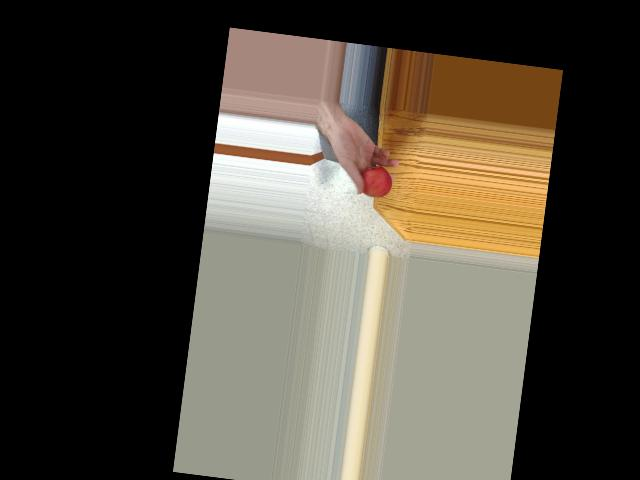apple: (354, 158, 395, 200)
